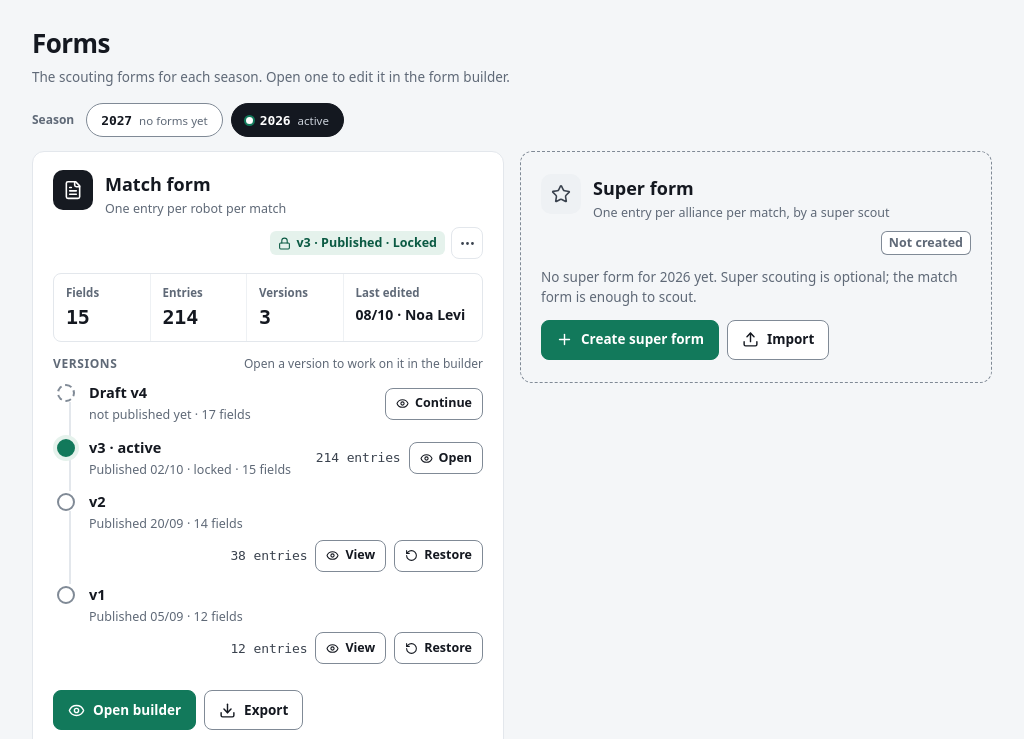
the forms list (/admin/forms, task 1.29) › a refused restore says why on the card
Click the button with aria-label "Restore v2": x=439, y=556 [394, 540, 483, 572]
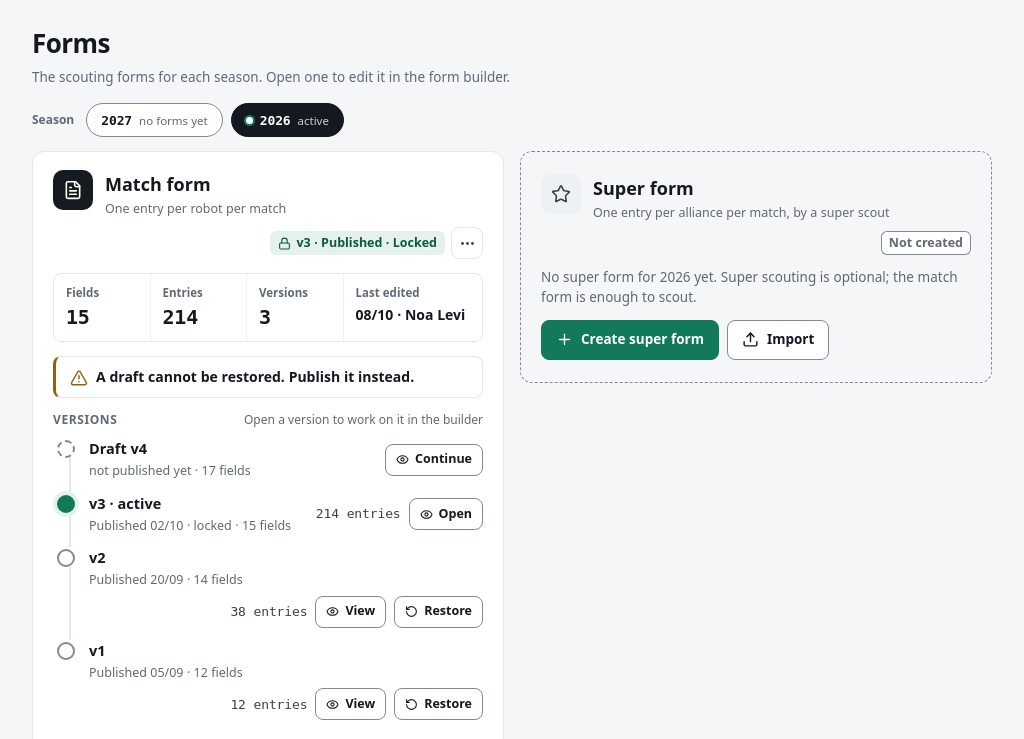
Now the message reads "A draft cannot be restored. Publish it instead.", box [96, 367, 414, 386]
